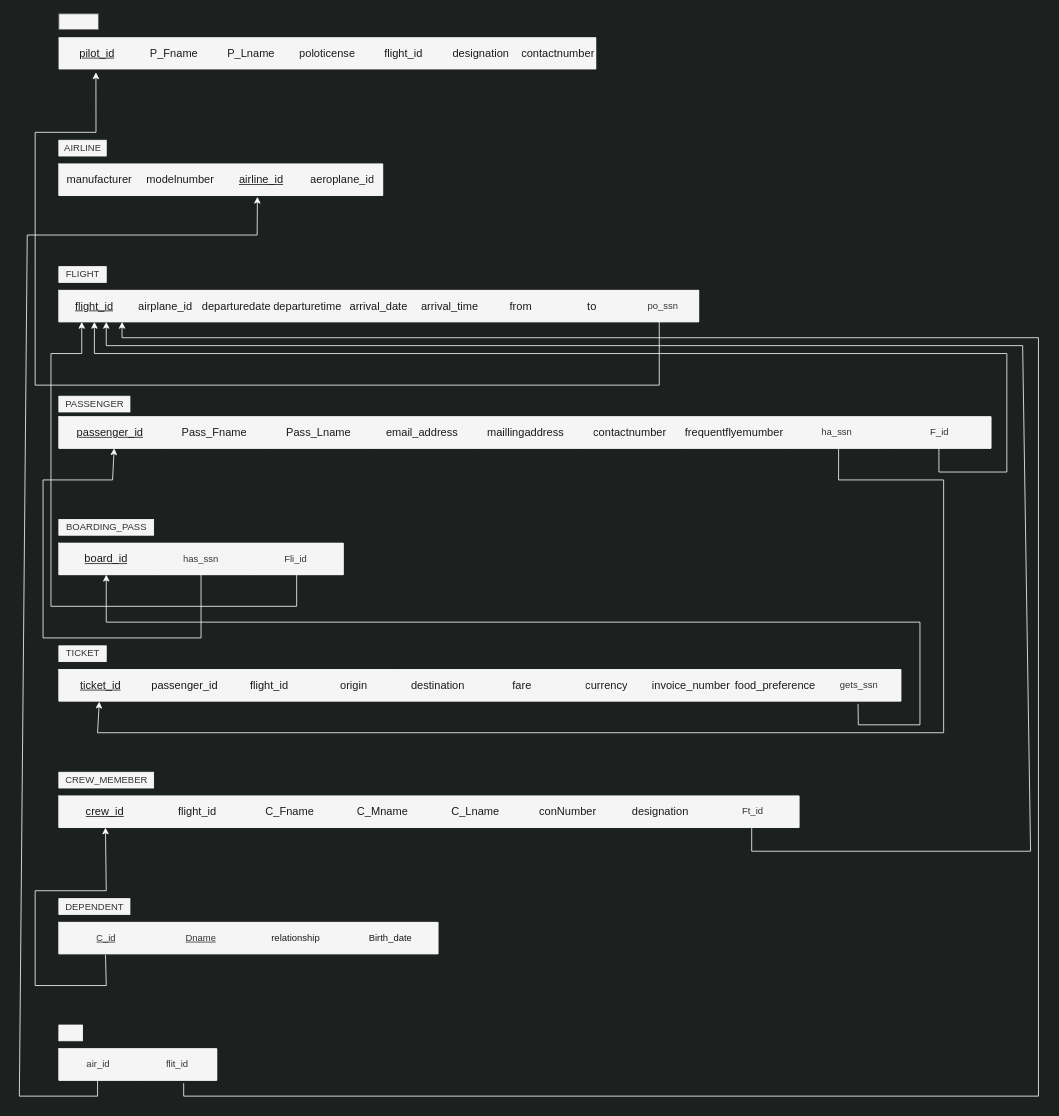
The diagram is 1059 pixels wide and 1116 high, and some of its shapes have lost their labels. The centre of each missing label's shape, as x and y in pixels:
"PILOT" belongs at (x=78, y=21).
"use" belongs at (x=70, y=1032).
